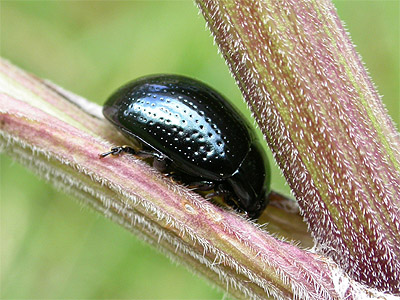Chrysolina_oricalcia: (93, 67, 273, 224)
